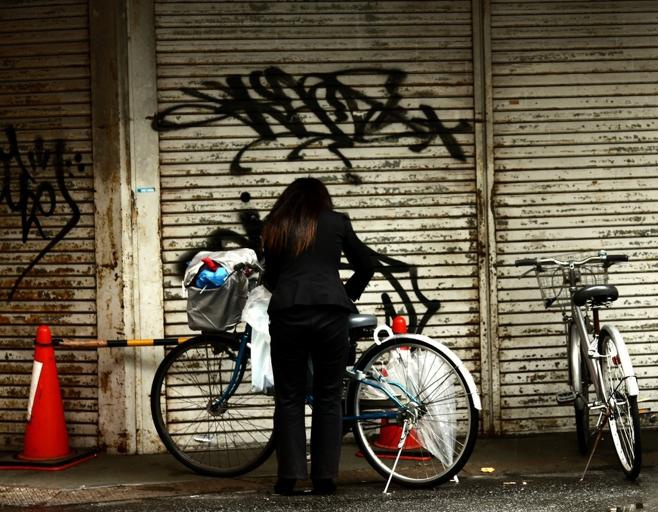non-vehicle: (148, 258, 483, 496), (512, 248, 643, 489)
